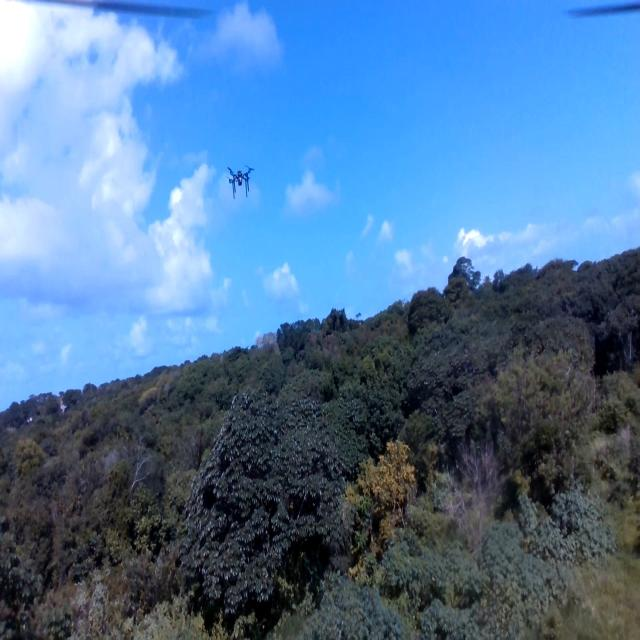-uav-: (222, 160, 259, 210)
